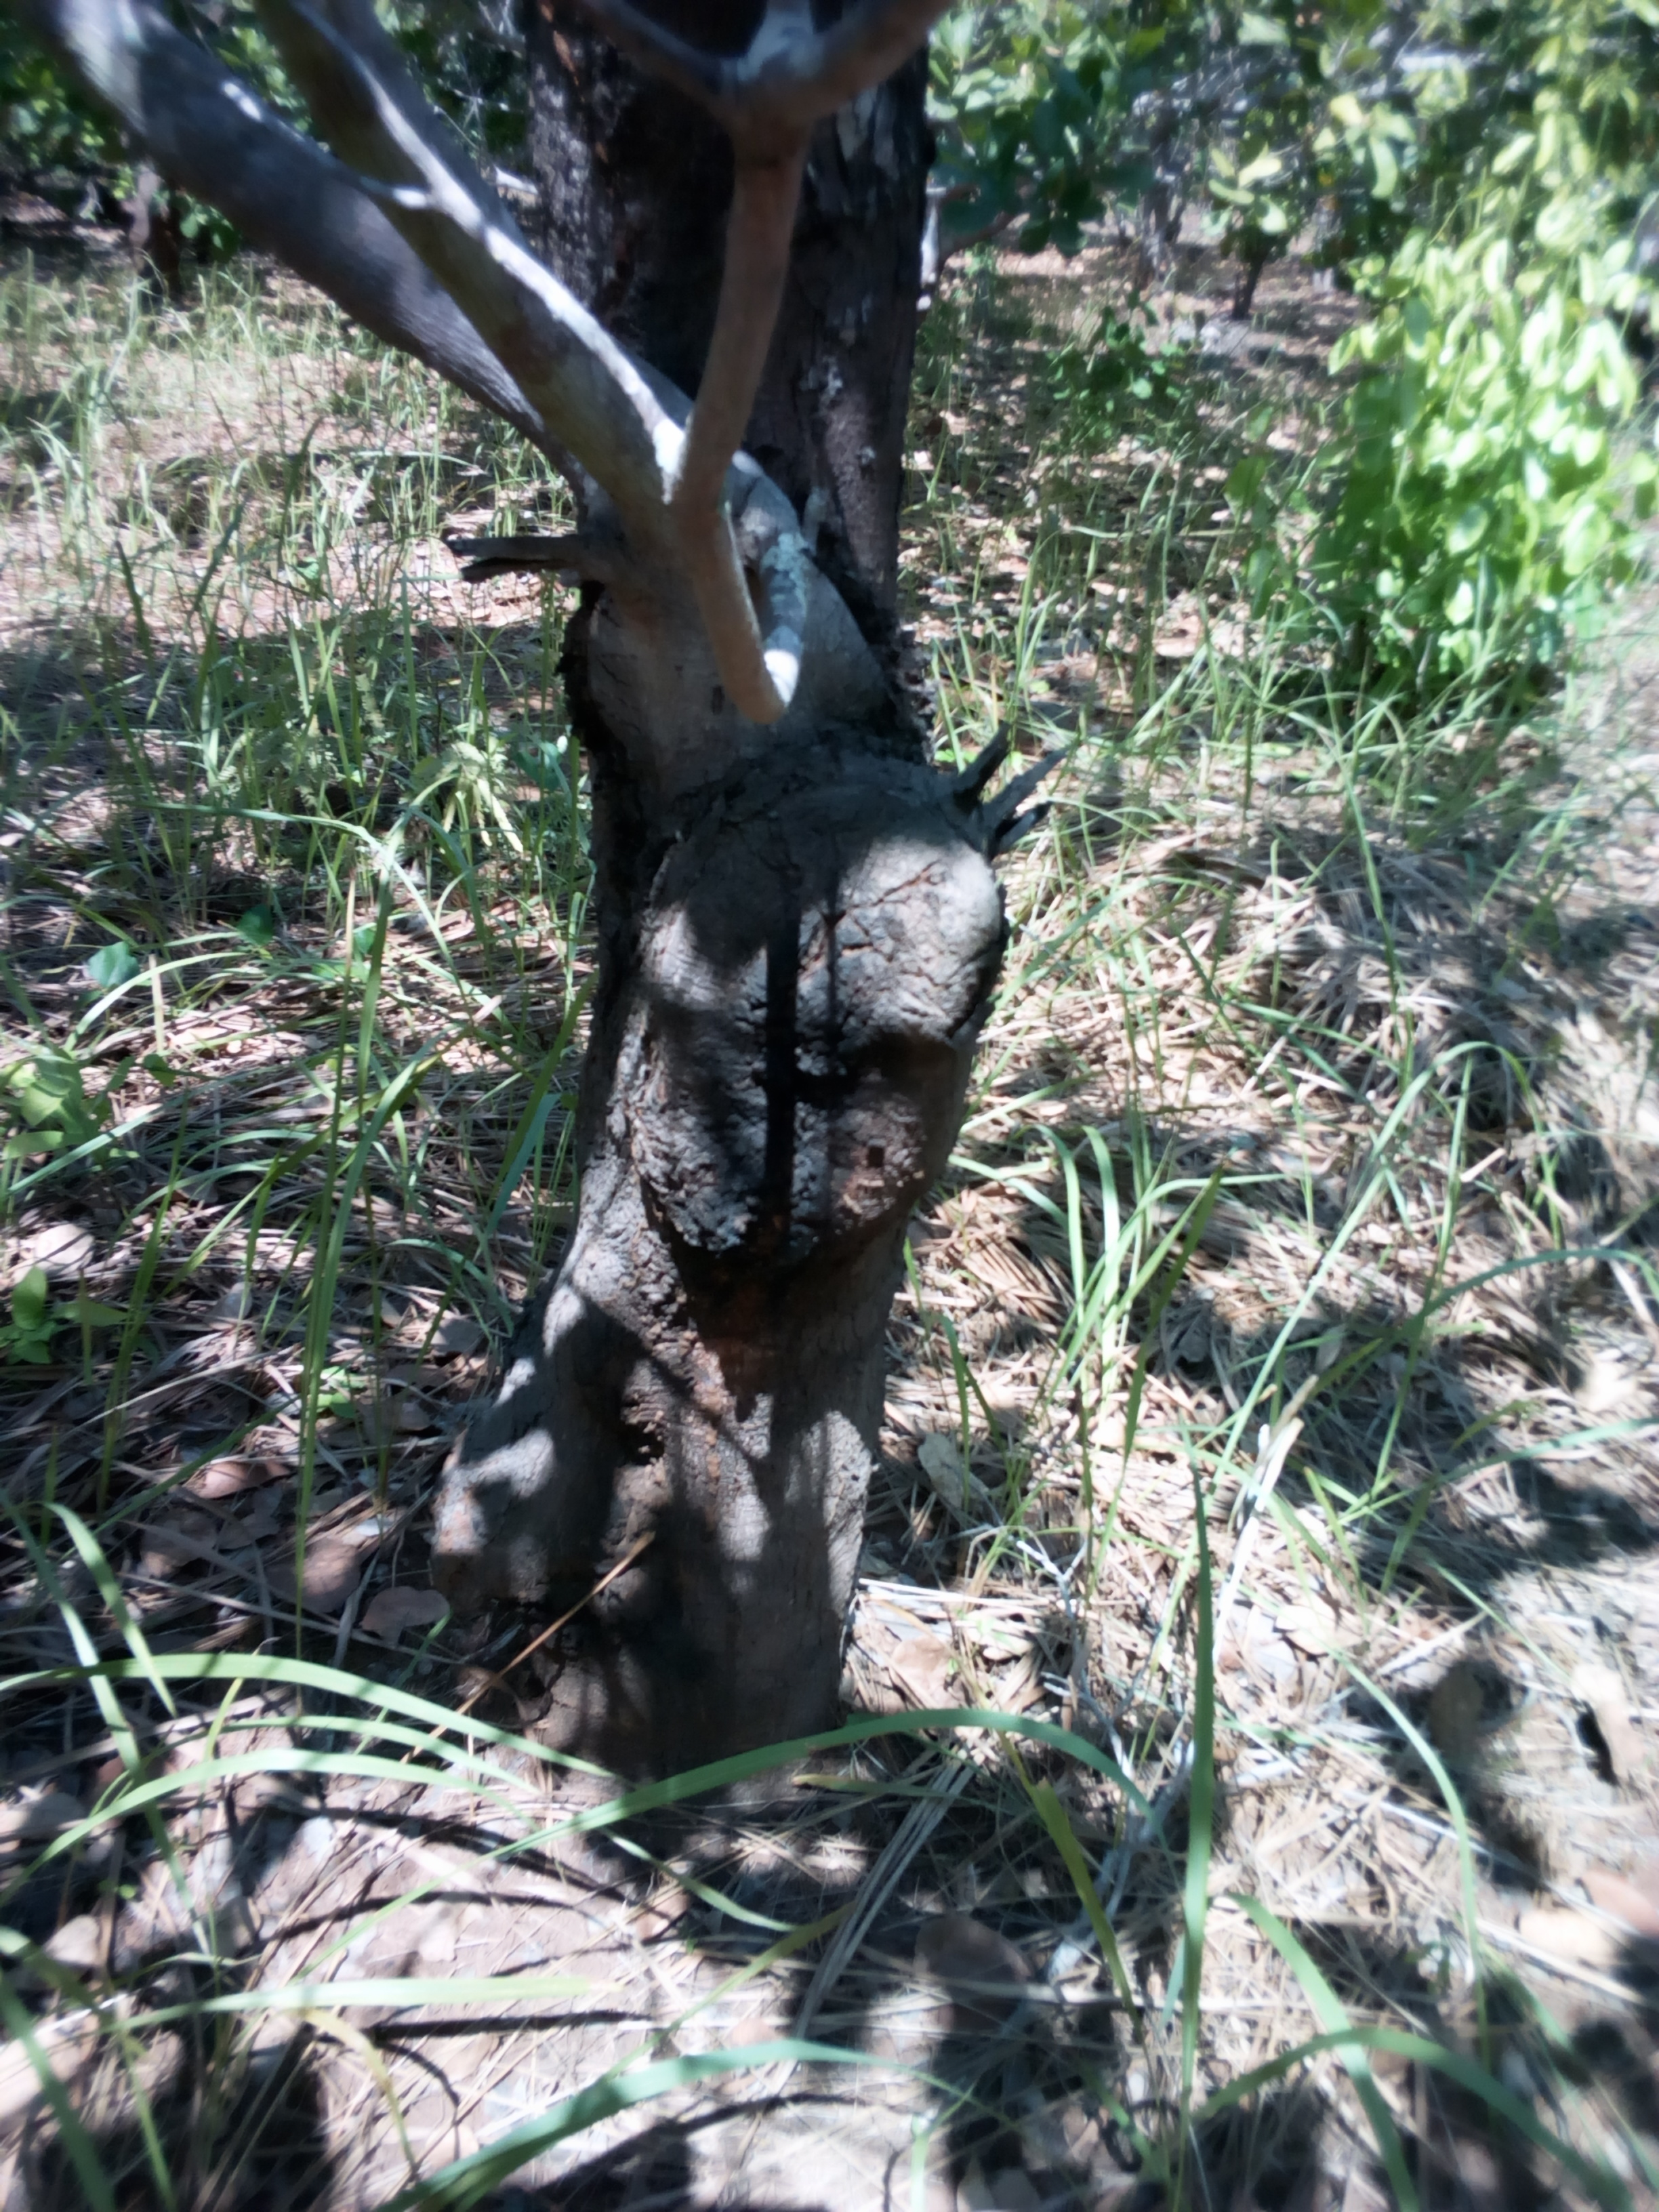Termites: (647, 744, 985, 1268)
